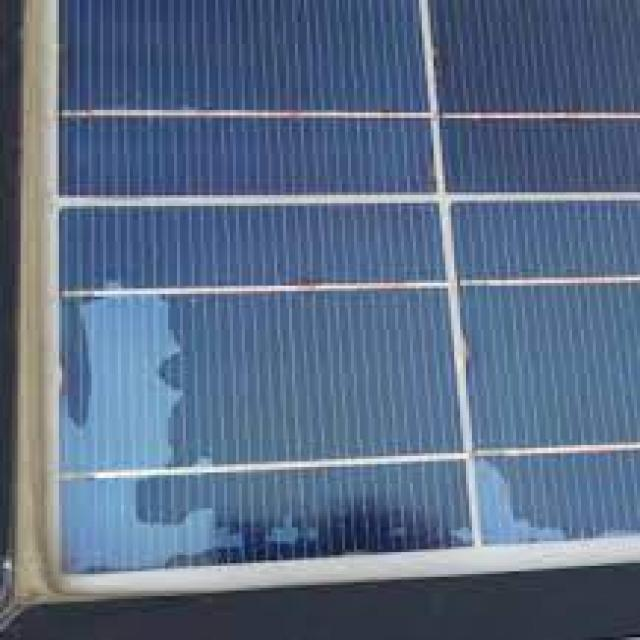faulty: (14, 0, 640, 596)
